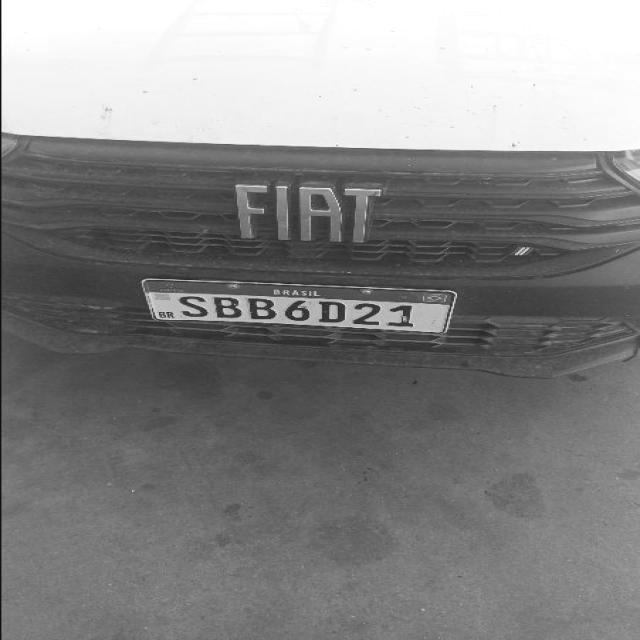placa_mercosul: (144, 280, 456, 337)
